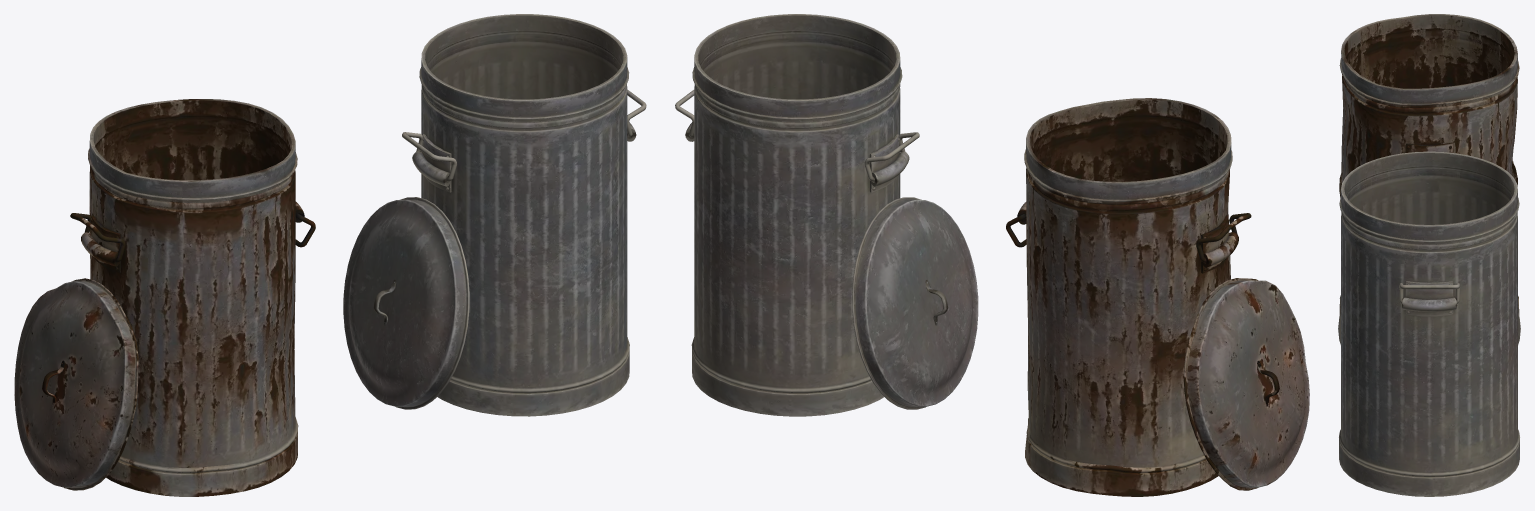
The model's file is metal_trash_can.glb.
3 views of the same model, side by side, from view 1: azimuth 30°, elevation 25°; view 2: azimuth 150°, elevation 25°; view 3: azimuth 270°, elevation 25° (orthographic). The views are drawn at different scales.
Parts seen in each view (by area): view 1: metal_trash_can, metal_trash_can_rust; view 2: metal_trash_can, metal_trash_can_rust; view 3: metal_trash_can, metal_trash_can_rust.
Boxes of the visible parts, box(x1,y1,x2,y2) form: metal_trash_can: box(343, 14, 646, 416); metal_trash_can_rust: box(14, 99, 315, 496); metal_trash_can: box(675, 14, 978, 416); metal_trash_can_rust: box(1006, 98, 1309, 496); metal_trash_can: box(1338, 151, 1520, 496); metal_trash_can_rust: box(1339, 14, 1519, 315).
Size of the model in its own units: 1.78 by 0.9062 by 0.5562.
Materials: 2 (2 with a texture image).
